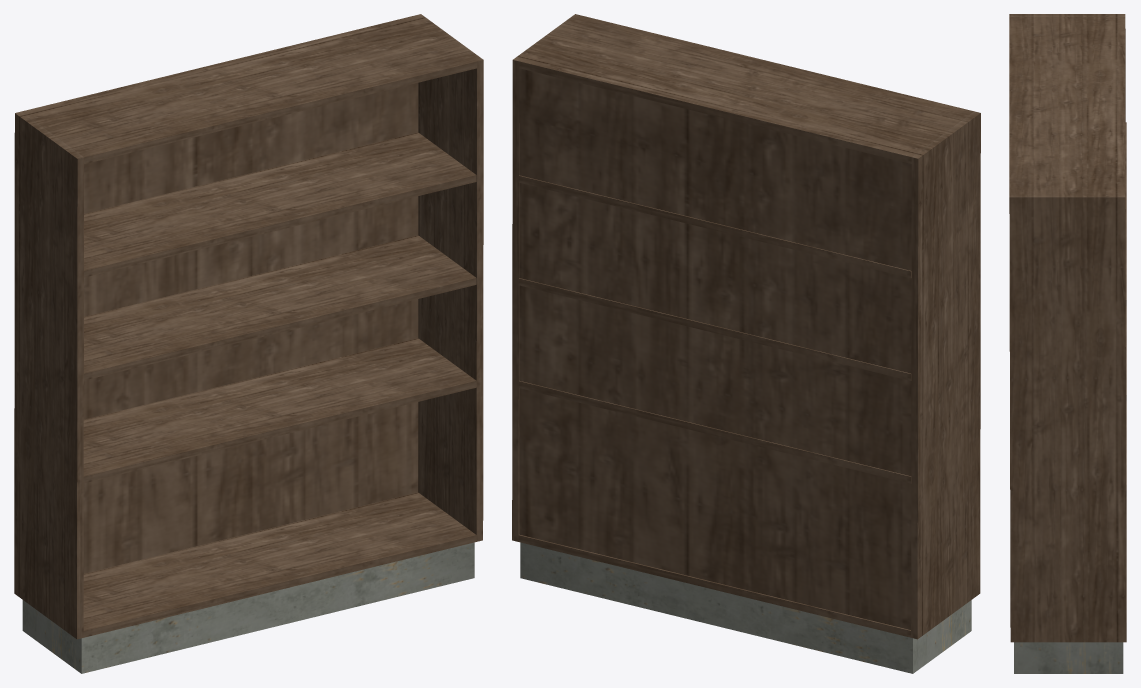
File: cabin01wb.fbx
3 renders of one model, left to right at view 1: azimuth 30°, elevation 25°; view 2: azimuth 150°, elevation 25°; view 3: azimuth 270°, elevation 25°, orthographic. The views are drawn at different scales.
Visible parts, largest first — view 1: cabin01wb; view 2: cabin01wb; view 3: cabin01wb.
Boxes of the visible parts, <box> form: cabin01wb: <box>14,14,483,673</box>; cabin01wb: <box>512,14,980,673</box>; cabin01wb: <box>1009,14,1126,673</box>.
Bounding box in the file's own units: 124 × 151 × 33.45.
